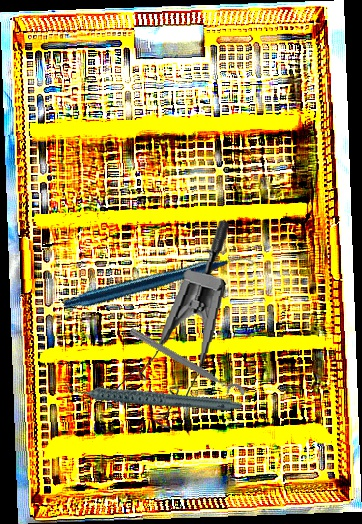Fixation Ring: (123, 323, 247, 409)
Handpiece: (62, 200, 257, 369), (63, 344, 243, 447)
Speculum: (108, 210, 234, 436)
